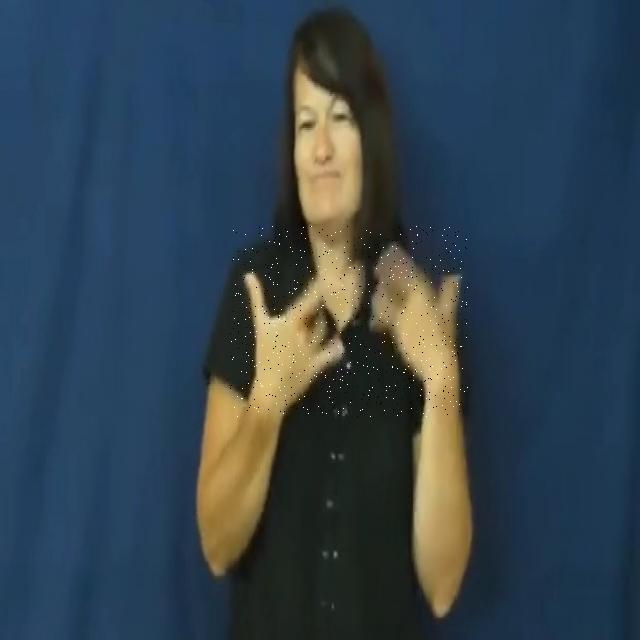hot: (230, 226, 468, 417)
